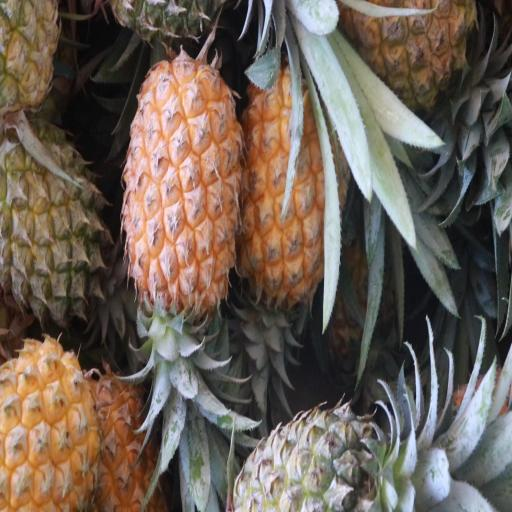------------------------------: (2, 119, 103, 323)
Pineapple - v8 v1: (122, 58, 242, 312), (242, 61, 344, 295), (341, 0, 475, 137), (0, 337, 98, 512)
